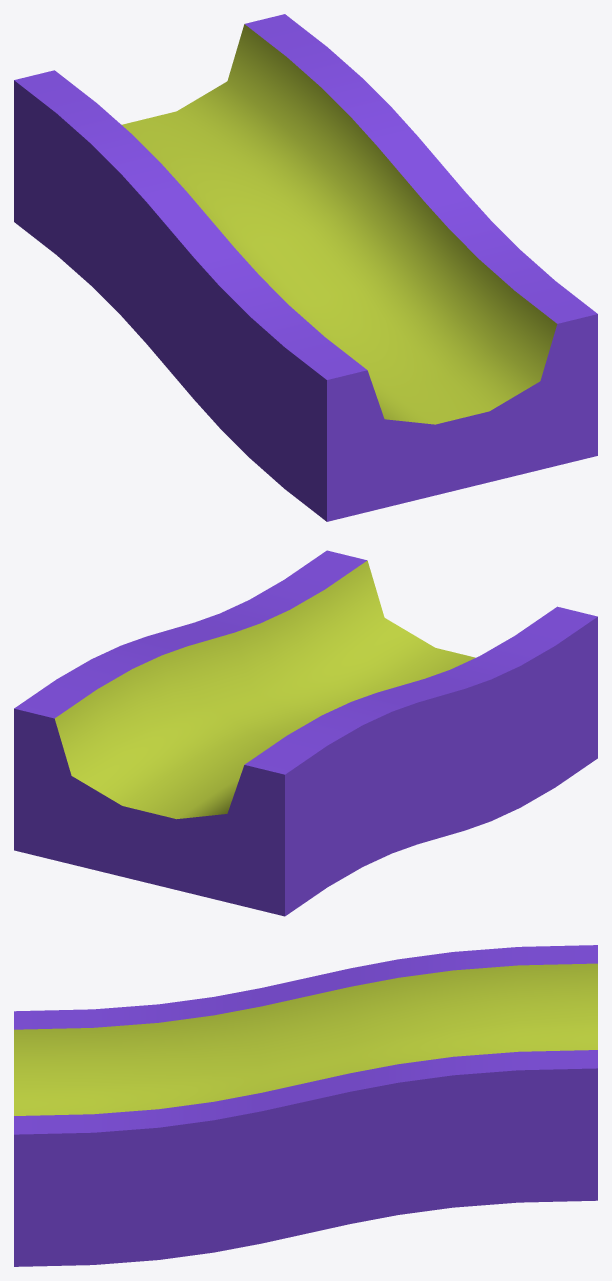
Rendered from ramp_long_A-col.dae.
The picture shows the model from 3 angles, top to bottom: view 1: azimuth 30°, elevation 25°; view 2: azimuth 150°, elevation 25°; view 3: azimuth 270°, elevation 25°; orthographic projection. The views are drawn at different scales.
Parts seen in each view (by area): view 1: ramp_long_A-col; view 2: ramp_long_A-col; view 3: ramp_long_A-col.
Boxes of the visible parts, x1,y1,x2,y2 form: ramp_long_A-col: [14, 14, 597, 521]; ramp_long_A-col: [14, 550, 597, 916]; ramp_long_A-col: [14, 945, 597, 1266].
Size of the model in its own units: 1 by 2 by 0.75.
